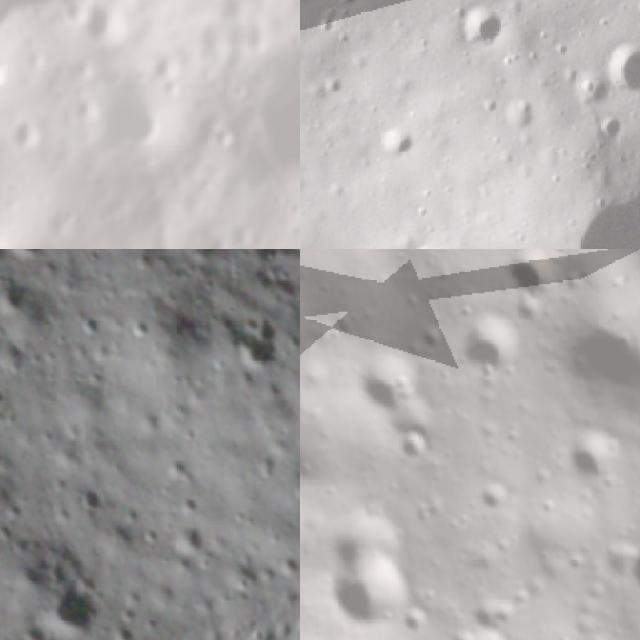crater: (314, 540, 437, 640), (545, 298, 640, 426), (82, 59, 187, 160), (202, 291, 300, 392), (318, 490, 420, 586), (244, 17, 300, 183), (338, 337, 436, 431), (300, 367, 357, 510), (451, 310, 535, 392), (549, 426, 634, 502), (27, 571, 116, 640), (493, 249, 569, 312), (464, 581, 529, 640), (463, 471, 517, 528), (71, 0, 126, 53), (68, 471, 123, 524), (388, 420, 441, 474), (442, 610, 528, 640), (456, 8, 514, 50), (0, 249, 73, 282), (10, 113, 59, 158), (371, 122, 416, 170), (41, 195, 92, 237), (604, 40, 640, 94), (614, 537, 640, 609), (502, 94, 539, 137), (227, 213, 265, 244), (597, 113, 625, 148), (0, 44, 19, 95), (207, 127, 229, 156)
